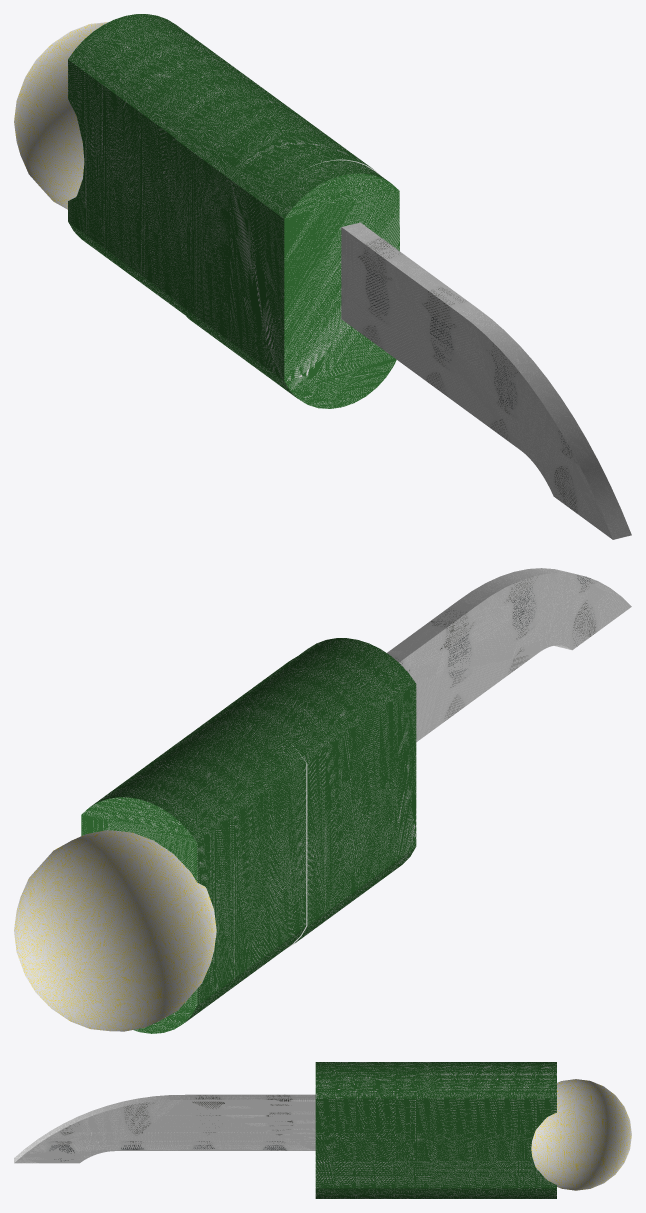
File: model_align.obj
3 renders of one model, top to bottom at view 1: azimuth 30°, elevation 25°; view 2: azimuth 150°, elevation 25°; view 3: azimuth 270°, elevation 25°, orthographic. The views are drawn at different scales.
Parts seen in each view (by area): view 1: mesh2_mesh2-geometry, mesh1_mesh1-geometry, mesh4_mesh4-geometry, mesh3_mesh3-geometry; view 2: mesh1_mesh1-geometry, mesh3_mesh3-geometry, mesh2_mesh2-geometry, mesh4_mesh4-geometry; view 3: mesh1_mesh1-geometry, mesh4_mesh4-geometry, mesh3_mesh3-geometry, mesh2_mesh2-geometry.
Part boxes in pixels (left/top/right/bottom): mesh2_mesh2-geometry: left=175, top=111, right=399, bottom=408; mesh1_mesh1-geometry: left=68, top=14, right=379, bottom=314; mesh4_mesh4-geometry: left=341, top=222, right=631, bottom=539; mesh3_mesh3-geometry: left=14, top=22, right=108, bottom=209; mesh1_mesh1-geometry: left=81, top=651, right=371, bottom=1033; mesh3_mesh3-geometry: left=14, top=830, right=216, bottom=1031; mesh2_mesh2-geometry: left=281, top=638, right=416, bottom=949; mesh4_mesh4-geometry: left=387, top=568, right=631, bottom=741; mesh1_mesh1-geometry: left=335, top=1062, right=556, bottom=1198; mesh4_mesh4-geometry: left=14, top=1094, right=315, bottom=1163; mesh3_mesh3-geometry: left=531, top=1079, right=631, bottom=1190; mesh2_mesh2-geometry: left=315, top=1062, right=335, bottom=1198.
Size of the model in its own units: 0.0357 by 0.0454 by 0.1971.
